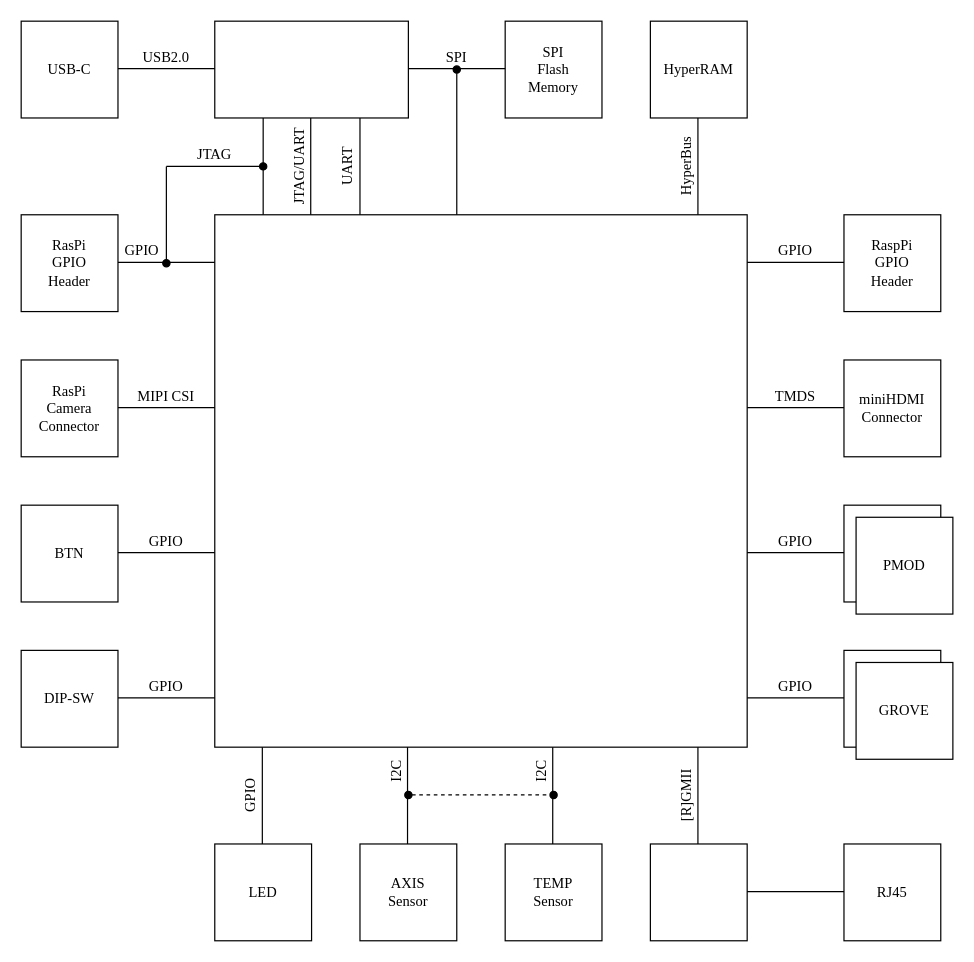
Some shapes in this 974 by 962 pixel diagram are drawn without their labels. Each missing label, with the centre of its shape:
"FPGA" belongs at pixel 480 480.
"GbE PHY" belongs at pixel 698 892.
"USB Serial" belongs at pixel 311 69.
